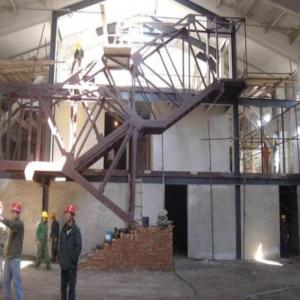red: (64, 205, 76, 225), (10, 203, 22, 222)
yellow: (41, 211, 49, 223), (51, 214, 57, 223), (282, 215, 287, 224)
